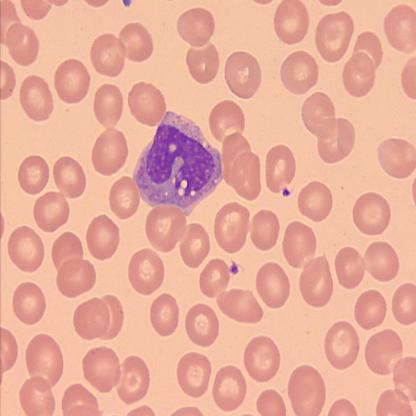Monocyte: (132, 109, 226, 217)
